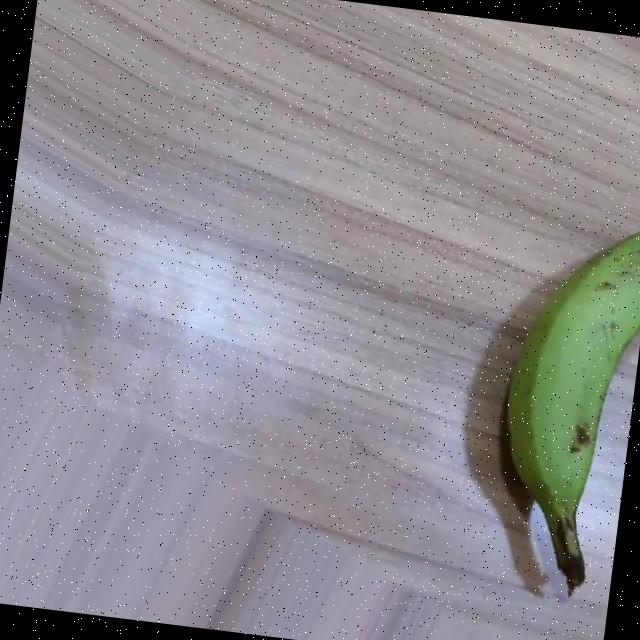Unripe: (481, 207, 640, 604)
